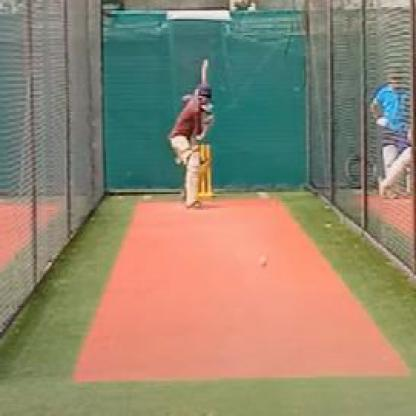ball: (254, 254, 269, 272)
